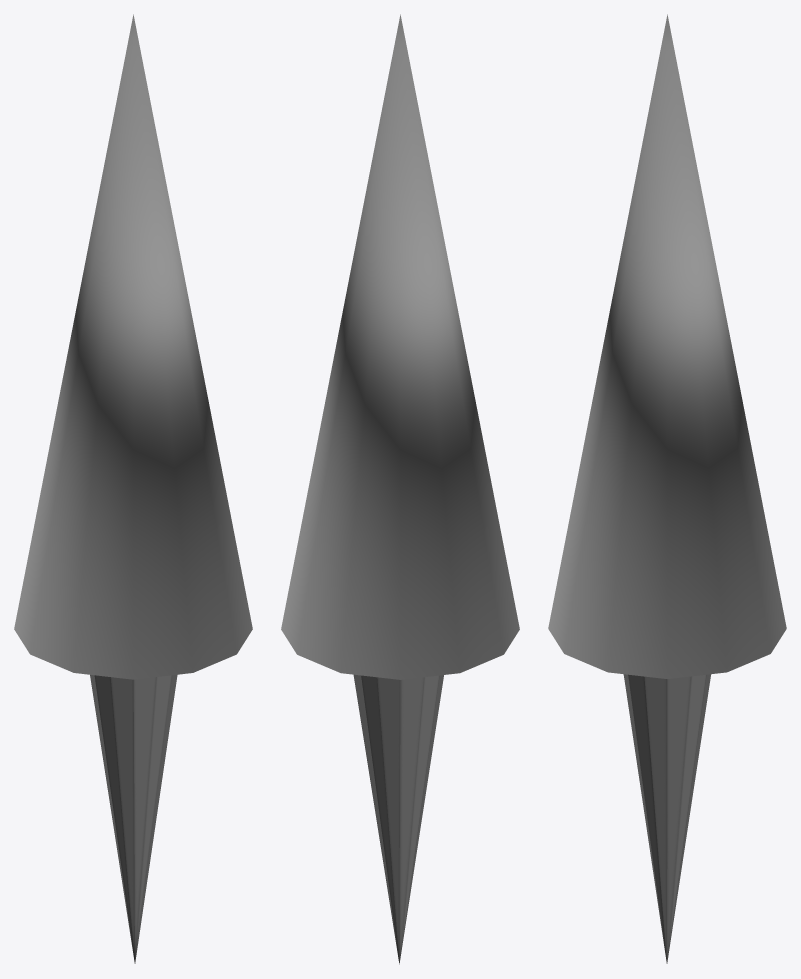
Rendered from Lance.fbx.
The picture shows the model from 3 angles, left to right: view 1: azimuth 30°, elevation 25°; view 2: azimuth 150°, elevation 25°; view 3: azimuth 270°, elevation 25°; orthographic projection.
Parts seen in each view (by area): view 1: Cylinder.001; view 2: Cylinder.001; view 3: Cylinder.001.
Boxes of the visible parts, x1,y1,x2,y2 form: Cylinder.001: (14, 14, 252, 963); Cylinder.001: (281, 14, 519, 964); Cylinder.001: (548, 14, 786, 963).
Size of the model in its own units: 324 by 1422 by 324.
